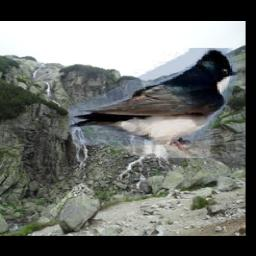Swallow: (69, 49, 237, 159)
